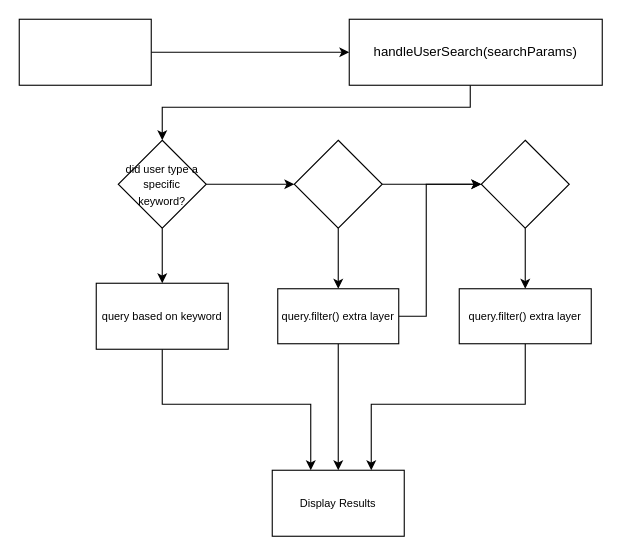
The diagram is 622 pixels wide and 556 high, and some of its shapes have lost their labels. Each missing label, with the box of its shape:
did user specify 'country': (480, 139, 569, 228)
did user specify 'course': (293, 139, 382, 228)
searchResults: (18, 18, 151, 85)
